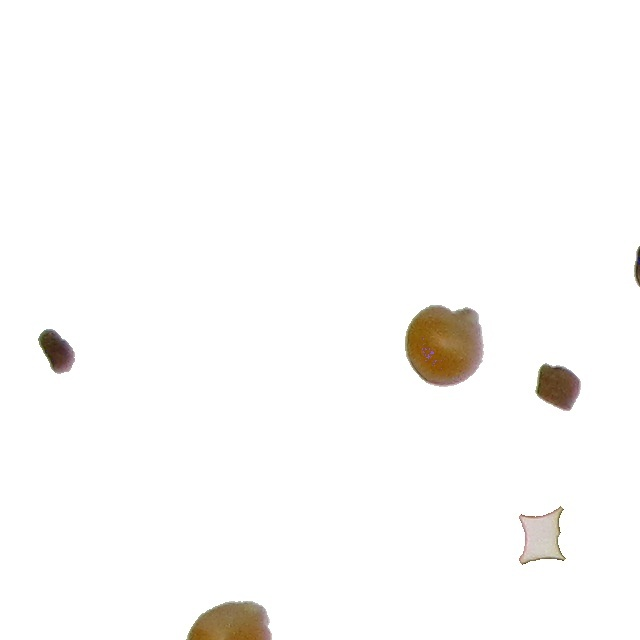buckwheat: (534, 362, 582, 412), (37, 328, 76, 375), (633, 237, 640, 296)
mais: (404, 304, 485, 388), (185, 600, 273, 640)
other: (518, 505, 567, 566)
